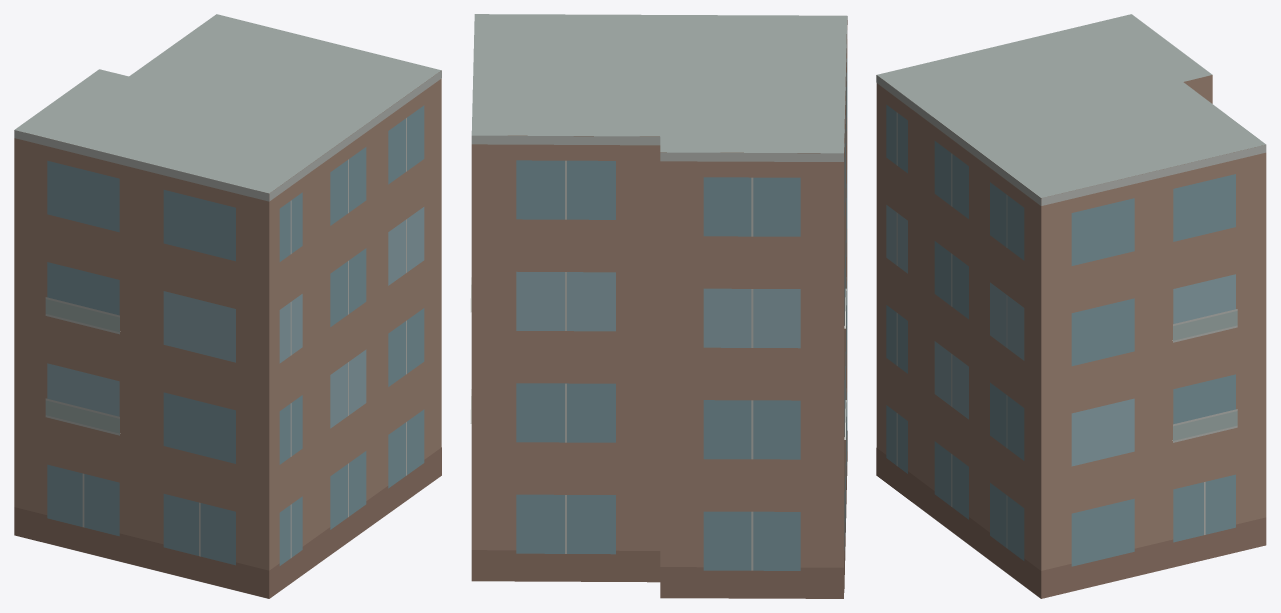
Rendered from residential-36fc26e2-b6b3-40f1-a0fd-bf4cec333428.glb.
The picture shows the model from 3 angles, left to right: view 1: azimuth 30°, elevation 25°; view 2: azimuth 150°, elevation 25°; view 3: azimuth 270°, elevation 25°; orthographic projection. The views are drawn at different scales.
Parts seen in each view (by area): view 1: residential-36fc26e2-b6b3-40f1-a0fd-bf4cec333428.tmp; view 2: residential-36fc26e2-b6b3-40f1-a0fd-bf4cec333428.tmp; view 3: residential-36fc26e2-b6b3-40f1-a0fd-bf4cec333428.tmp.
Part boxes in pixels (left/top/right/bottom): residential-36fc26e2-b6b3-40f1-a0fd-bf4cec333428.tmp: left=14, top=14, right=441, bottom=598; residential-36fc26e2-b6b3-40f1-a0fd-bf4cec333428.tmp: left=470, top=14, right=847, bottom=598; residential-36fc26e2-b6b3-40f1-a0fd-bf4cec333428.tmp: left=876, top=14, right=1266, bottom=598.
Size of the model in its own units: 12.03 by 12.2 by 10.76.
